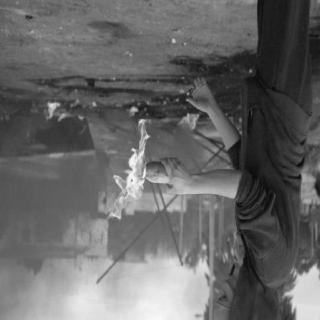Fire: (181, 112, 205, 140), (43, 101, 64, 120), (100, 147, 118, 157), (127, 103, 141, 115), (78, 113, 88, 125), (70, 102, 78, 110)
Smoke: (10, 164, 80, 246)
